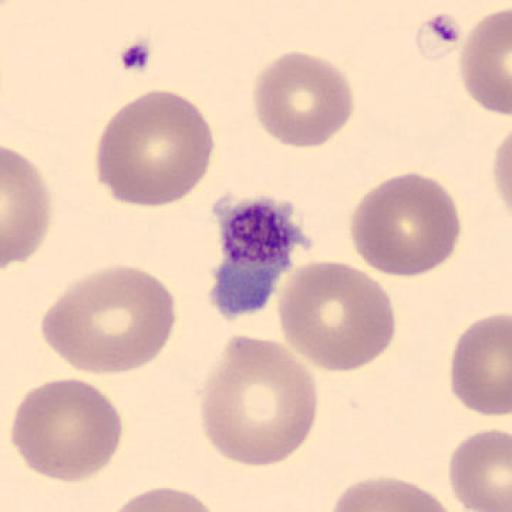RBC: (200, 333, 318, 468), (39, 264, 179, 376), (94, 88, 216, 208), (276, 258, 398, 374), (10, 376, 124, 484), (349, 171, 463, 279), (251, 49, 355, 151), (449, 312, 512, 418), (2, 144, 52, 268), (458, 5, 512, 118), (448, 427, 512, 512), (327, 475, 458, 512), (108, 485, 222, 512), (490, 123, 512, 222), (493, 132, 512, 215)
